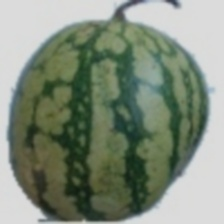watermelon: (26, 39, 224, 213)
